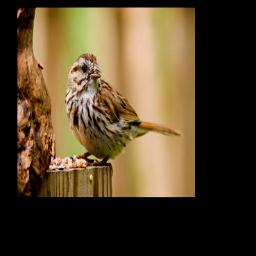Sparrow: (65, 51, 182, 177)
